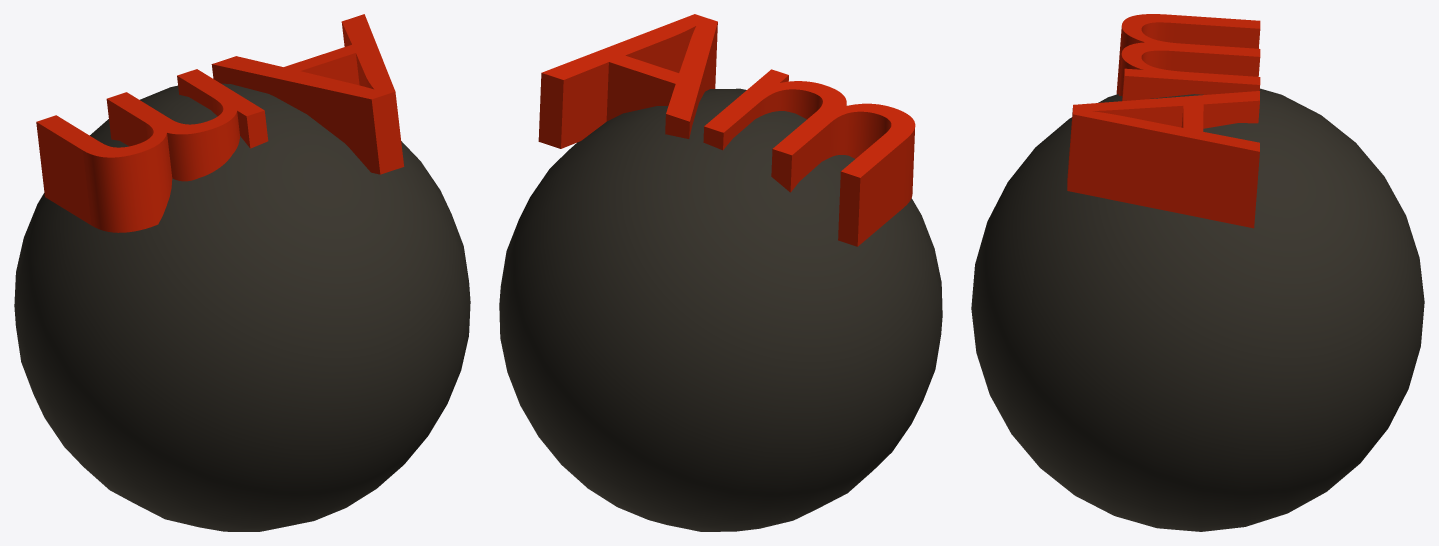
3 renders of one model, left to right at view 1: azimuth 30°, elevation 25°; view 2: azimuth 150°, elevation 25°; view 3: azimuth 270°, elevation 25°, orthographic. The views are drawn at different scales.
Visible parts, largest first — view 1: Am; view 2: Am; view 3: Am.
Part boxes in pixels (<box>): Am: <box>14,14,470,531</box>; Am: <box>499,14,942,531</box>; Am: <box>971,14,1424,531</box>.
Bounding box in the file's own units: 38.68 × 41.45 × 38.75.
